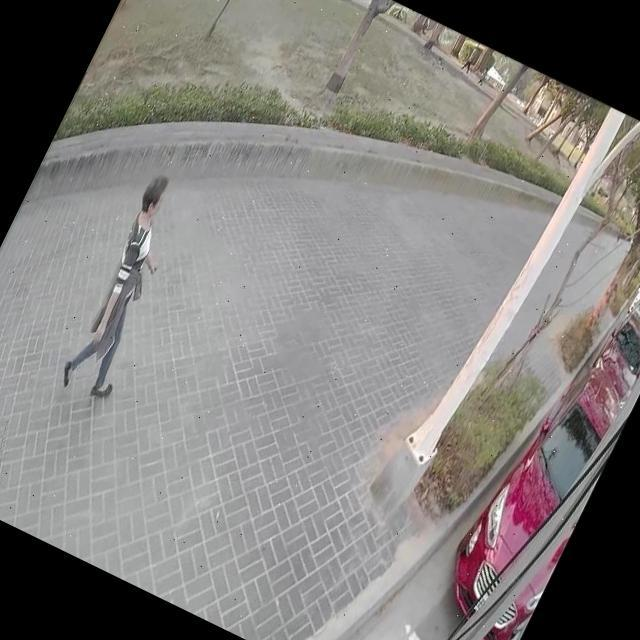person: (53, 170, 205, 403)
